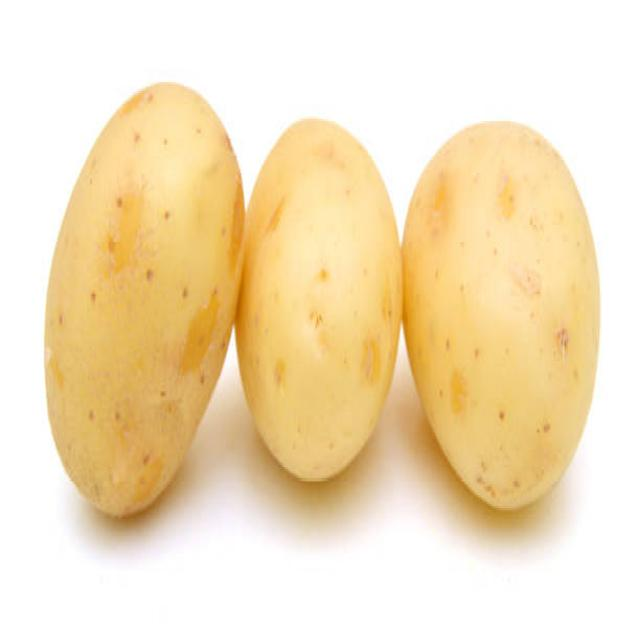Potato: (40, 74, 244, 524), (402, 117, 600, 516), (242, 107, 400, 488)
